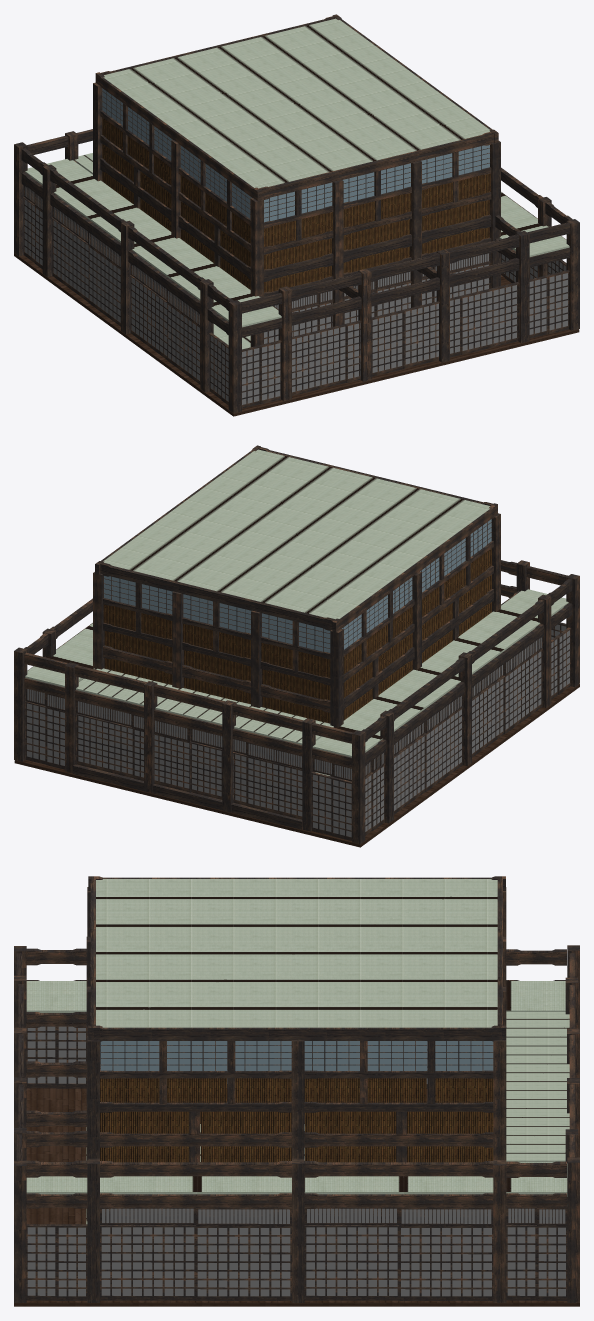
Rendered from Dojo 4_2.fbx.
3 renders of one model, top to bottom at view 1: azimuth 30°, elevation 25°; view 2: azimuth 150°, elevation 25°; view 3: azimuth 270°, elevation 25°, orthographic. The views are drawn at different scales.
Parts seen in each view (by area): view 1: teto003, teto, portas026, portas027, portas, portas003, piso madeira, viga_telhado002, portas029, portas028, palhas013, palhas011 (+65 smaller); view 2: teto003, teto, portas024, portas019, portas, portas003, teto002, viga_telhado (×2), piso madeira, viga (×2), viga_telhas028, portas013 (+66 smaller); view 3: teto003, portas031, portas034, teto001, teto002, piso madeira, viga_telhado (×2), viga_hor (×3), portas037, portas035, teto, palhas008 (+47 smaller).
Boxes of the visible parts, x1,y1,x2,y2 form: teto003: (103, 18, 490, 188); teto: (25, 159, 281, 327); portas026: (403, 282, 519, 368); portas027: (292, 310, 404, 395); portas: (129, 275, 200, 384); portas003: (51, 217, 120, 326); piso madeira: (14, 253, 579, 416); viga_telhado002: (259, 131, 493, 199); portas029: (529, 270, 569, 338); portas028: (242, 340, 281, 408); palhas013: (422, 200, 489, 253); palhas011: (343, 219, 410, 272); teto003: (103, 449, 489, 619); teto: (312, 589, 568, 757); portas024: (75, 713, 191, 792); portas019: (189, 741, 302, 819); portas: (472, 649, 542, 757); portas003: (394, 707, 463, 814); teto002: (76, 668, 333, 744); viga_telhado (×2): (95, 445, 335, 630); piso madeira: (14, 684, 579, 847); viga (×2): (14, 647, 365, 844); viga_telhas028: (74, 665, 303, 731); portas013: (311, 772, 351, 840); teto003: (96, 879, 497, 1027); portas031: (100, 1225, 291, 1300); portas034: (304, 1225, 493, 1300); teto001: (26, 1162, 567, 1196); teto002: (506, 1012, 569, 1162); piso madeira: (14, 1088, 579, 1306); viga_telhado (×2): (88, 878, 505, 1041); viga_hor (×3): (100, 1193, 566, 1208); portas037: (26, 1224, 87, 1300); portas035: (506, 1225, 567, 1300); teto: (26, 981, 565, 1012); palhas008: (305, 1111, 396, 1162).
Bounding box in the file's own units: 12.2 × 6.43 × 13.39.
8 materials, 6 textured.
